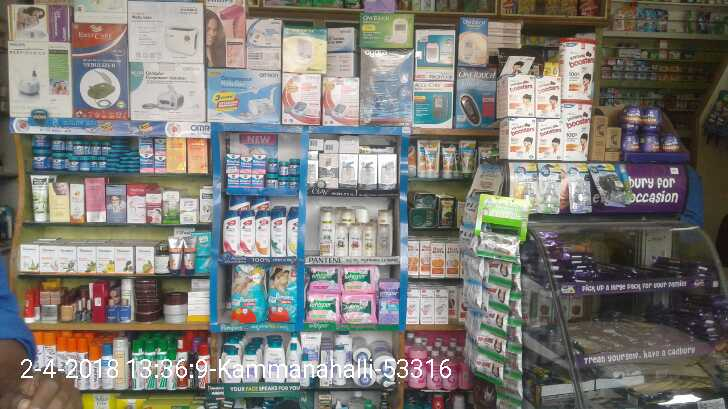vicks: (33, 133, 106, 173), (225, 154, 270, 190), (106, 137, 139, 173), (270, 156, 302, 190), (139, 137, 165, 174)
